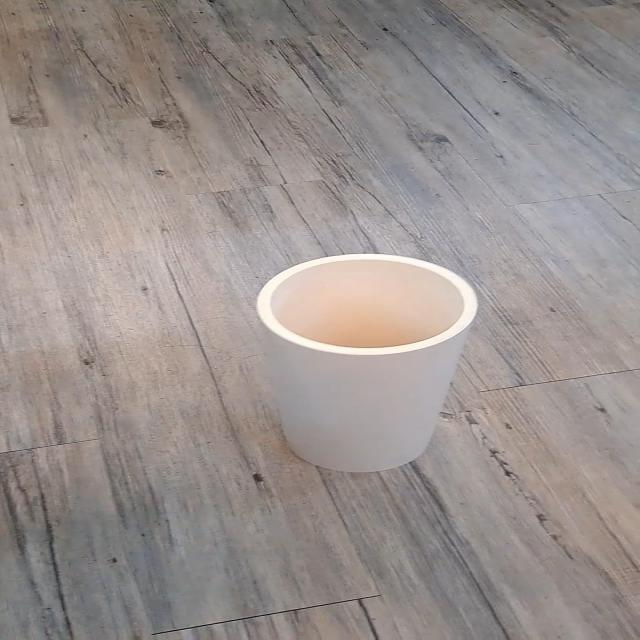CORAL: (226, 232, 513, 500)
